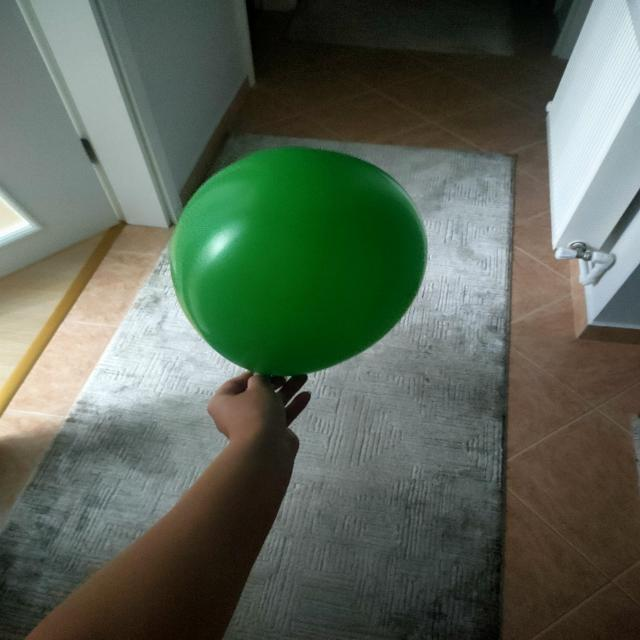green: (174, 147, 427, 381)
